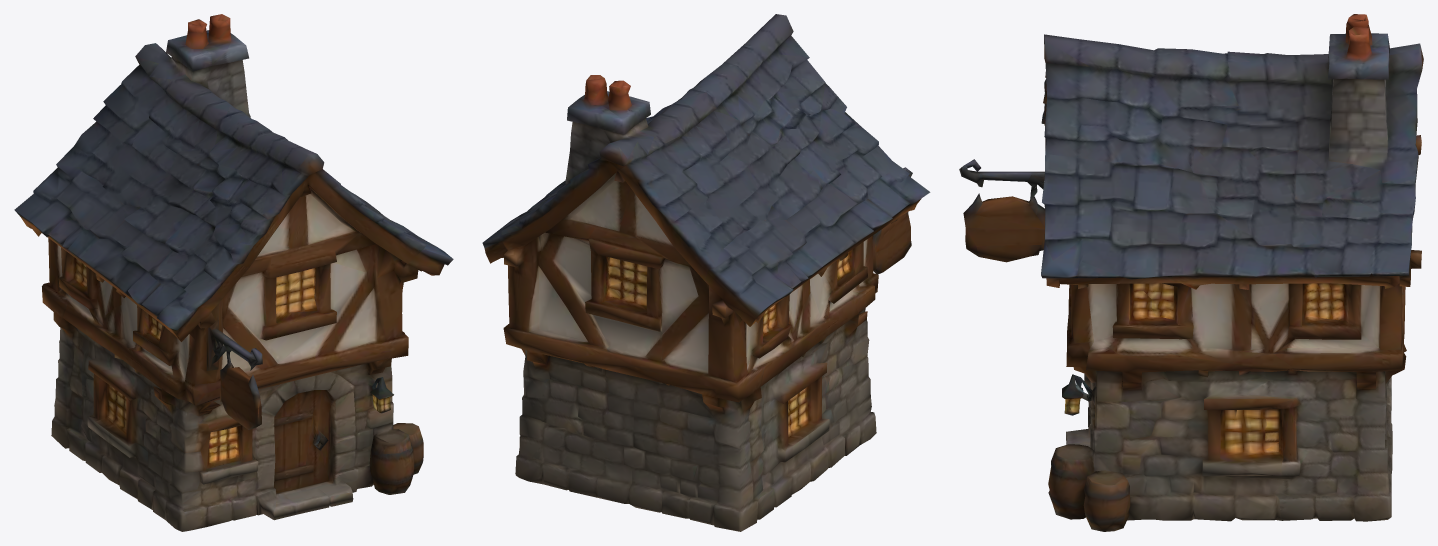
The model's file is tavern.glb.
The picture shows the model from 3 angles, left to right: view 1: azimuth 30°, elevation 25°; view 2: azimuth 150°, elevation 25°; view 3: azimuth 270°, elevation 25°; orthographic projection. The views are drawn at different scales.
Visible parts, largest first — view 1: tavern; view 2: tavern; view 3: tavern.
Part boxes in pixels (x1,y1,x2,y2): tavern: (14, 14, 453, 531); tavern: (482, 14, 930, 531); tavern: (959, 14, 1423, 531).
Size of the model in its own units: 6.84 by 9 by 8.34.
Materials: 1 (1 with a texture image).
